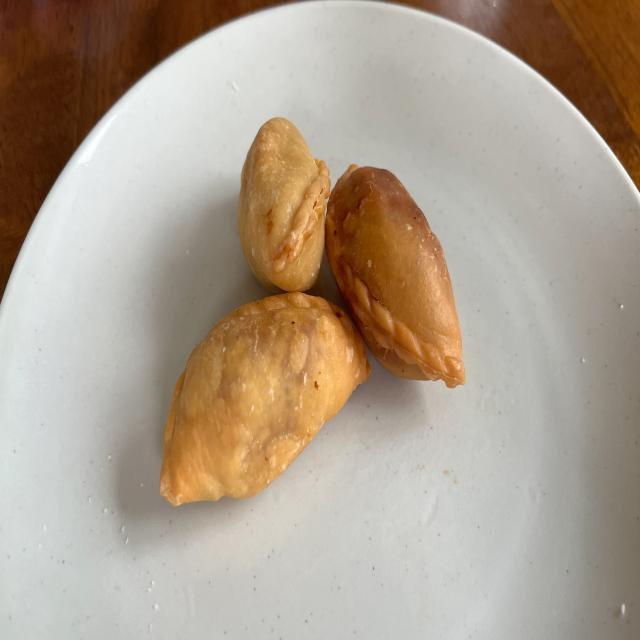karipap: (160, 293, 371, 504), (325, 164, 465, 389), (238, 118, 330, 293)
